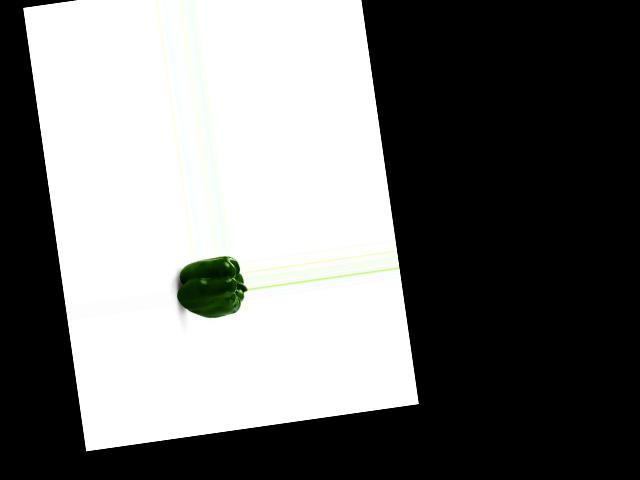bell_pepper: (174, 252, 249, 323)
